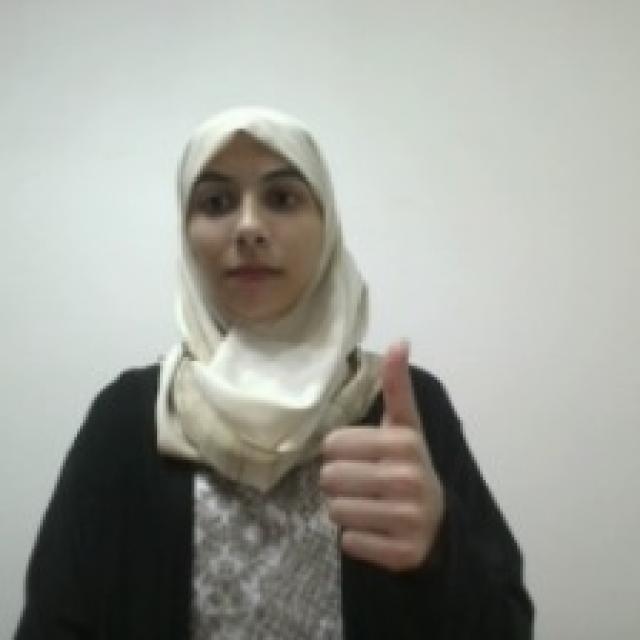fine: (314, 328, 445, 577)
